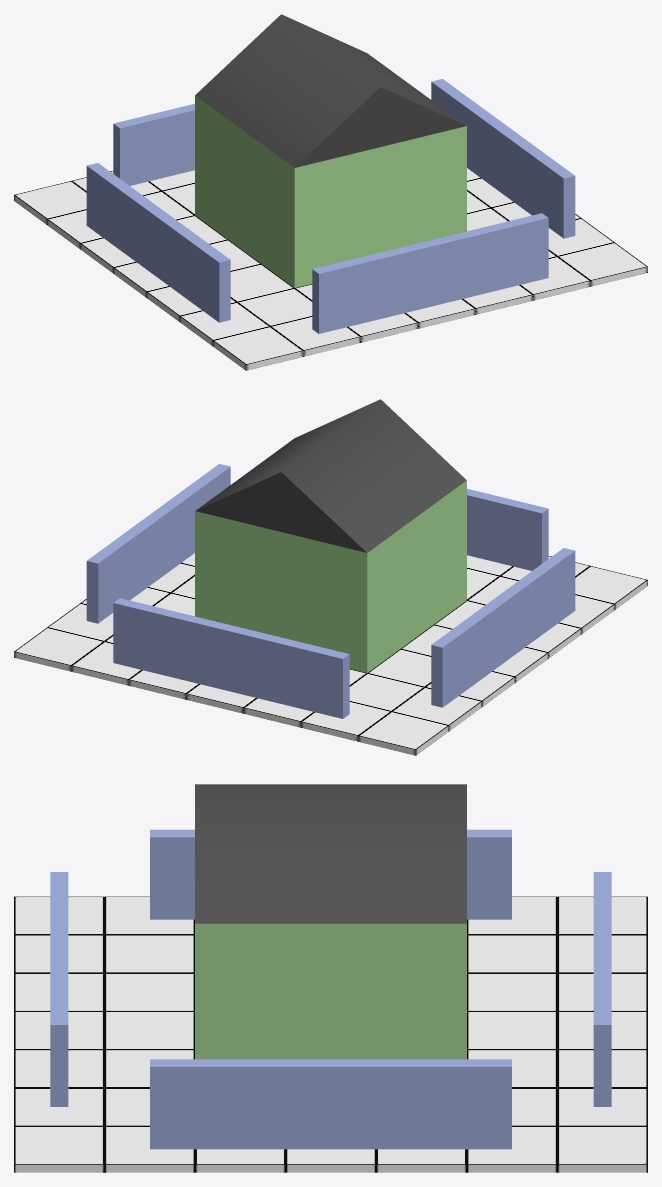
The model's file is XG_Hunters-Hut.glb.
3 views of the same model, one above another, from view 1: azimuth 30°, elevation 25°; view 2: azimuth 150°, elevation 25°; view 3: azimuth 270°, elevation 25° (orthographic). The views are drawn at different scales.
Visible parts, largest first — view 1: building_3m_3m_031, ground_7_x_7_012, Box674, Box673, Box672, Box671; view 2: building_3m_3m_031, ground_7_x_7_012, Box671, Box673, Box672, Box674; view 3: ground_7_x_7_012, building_3m_3m_031, Box672, Box673, Box671, Box674.
Boxes of the visible parts, x1,y1,x2,y2 form: building_3m_3m_031: [195, 14, 466, 288]; ground_7_x_7_012: [14, 168, 647, 370]; Box674: [312, 213, 548, 333]; Box673: [86, 163, 230, 322]; Box672: [431, 79, 575, 238]; Box671: [113, 103, 194, 185]; building_3m_3m_031: [195, 399, 466, 673]; ground_7_x_7_012: [14, 553, 647, 755]; Box671: [113, 598, 349, 718]; Box673: [431, 548, 575, 707]; Box672: [86, 464, 230, 623]; Box674: [467, 488, 548, 570]; ground_7_x_7_012: [14, 896, 647, 1172]; building_3m_3m_031: [195, 784, 466, 1059]; Box672: [150, 1059, 511, 1149]; Box673: [150, 829, 511, 919]; Box671: [593, 872, 611, 1106]; Box674: [50, 872, 68, 1106].
Size of the model in its own units: 7 by 3.1 by 7.
4 materials, 1 textured.
